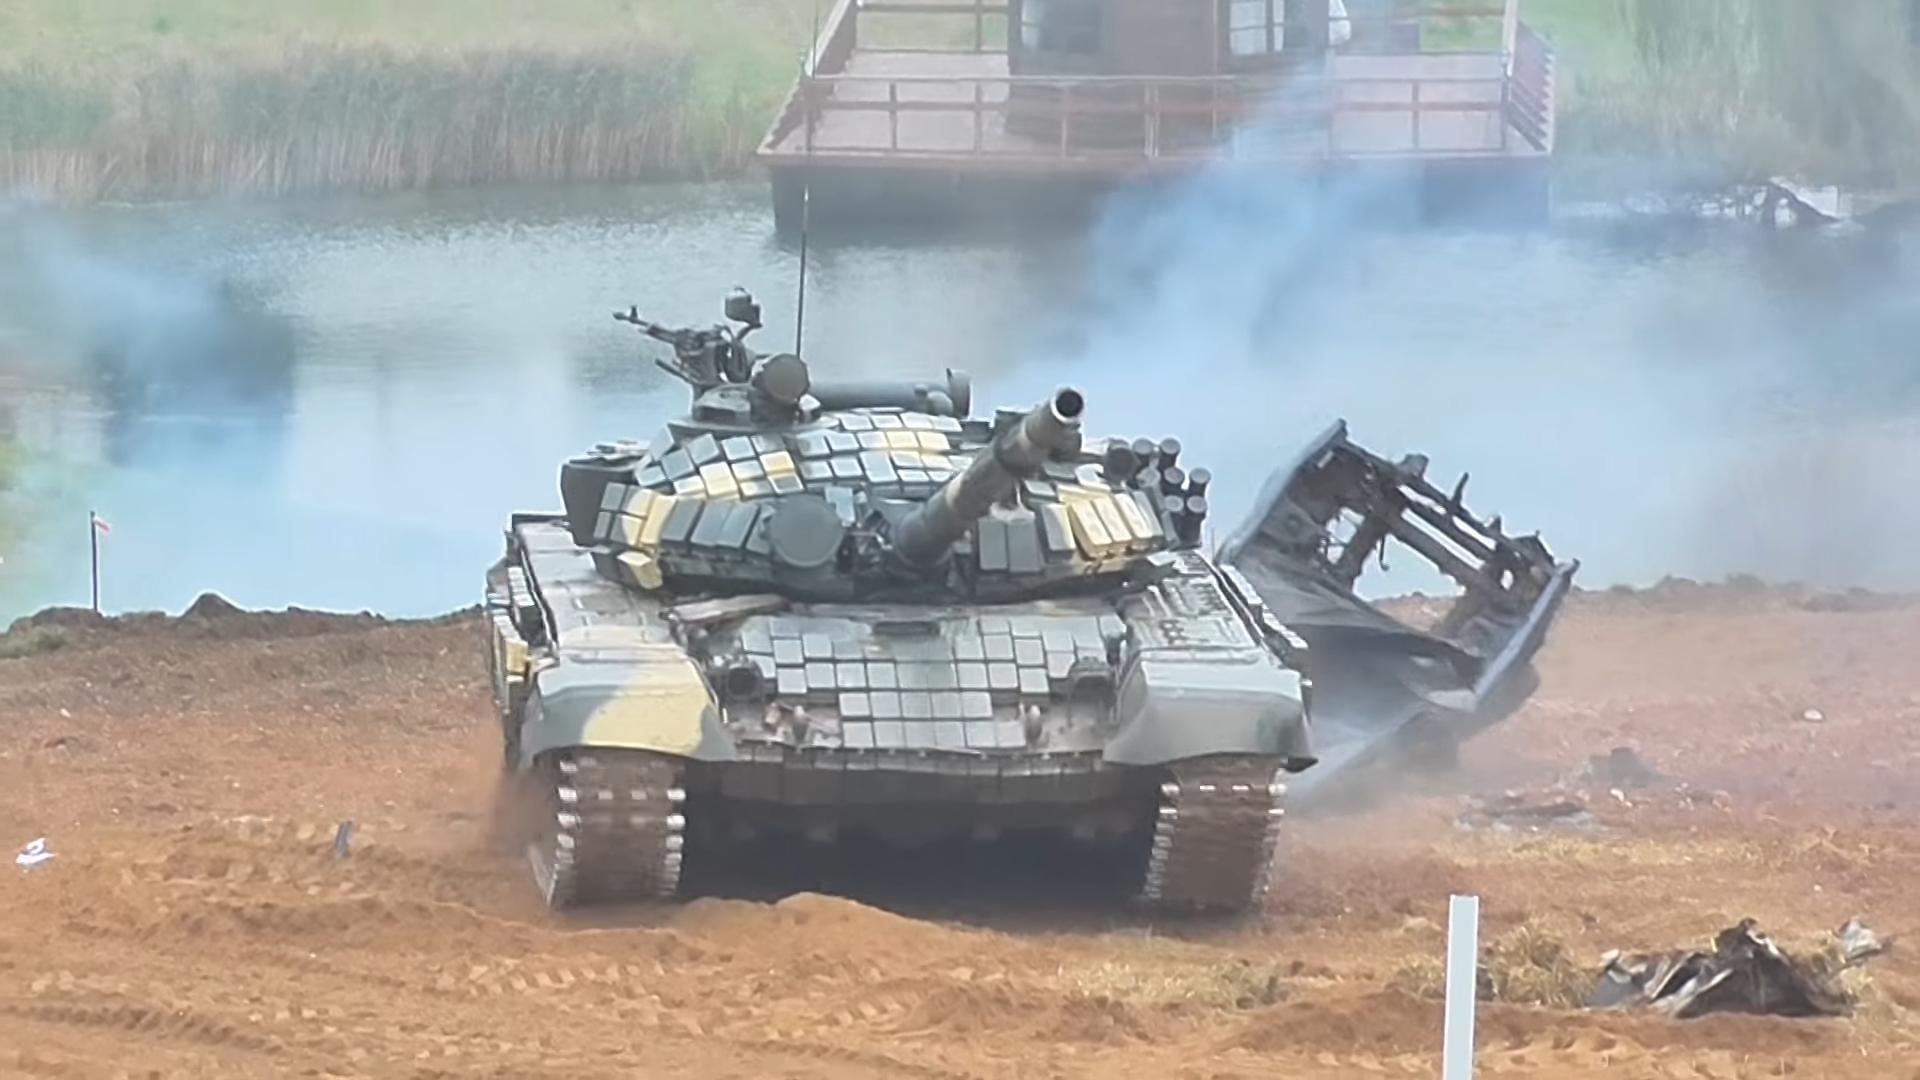tank: (483, 181, 1320, 918)
